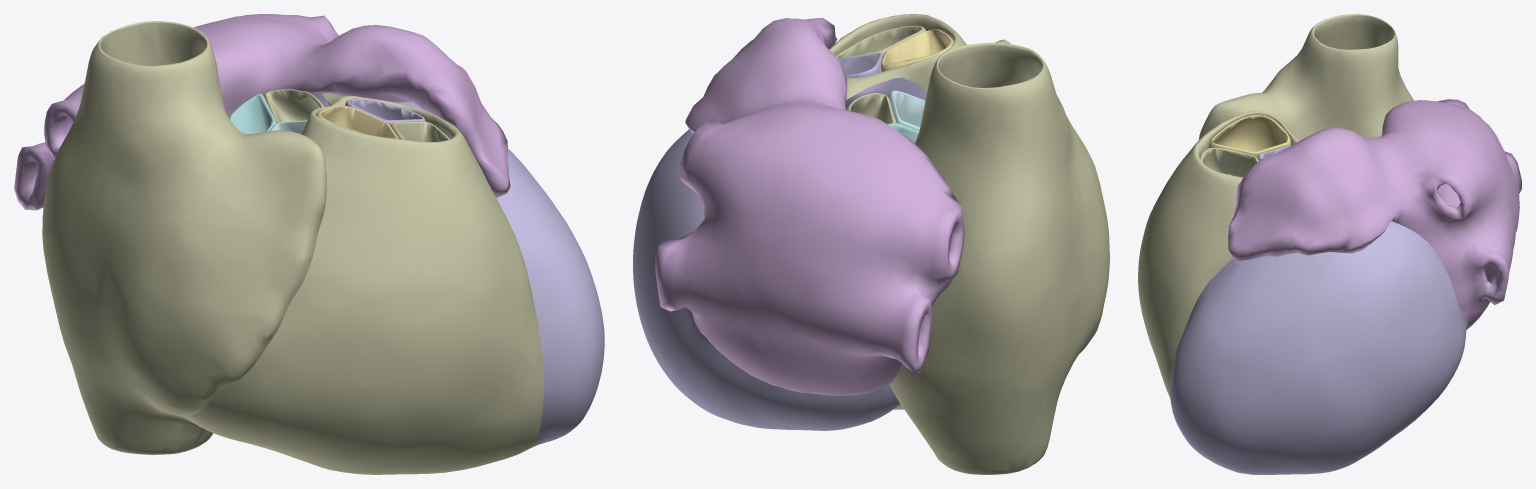
Rendered from heart.glb.
The picture shows the model from 3 angles, left to right: view 1: azimuth 30°, elevation 25°; view 2: azimuth 150°, elevation 25°; view 3: azimuth 270°, elevation 25°; orthographic projection. The views are drawn at different scales.
Parts seen in each view (by area): view 1: Right atrium.001, Right ventricle.001, Left atrium.001, Left ventricle.001, Left coronary leaflet.001, Right semilunar leaflet of pulmonary valve.001, Non-coronary leaflet.001, Left semilunar leaflet of pulmonary valve.001, Anterior semilunar leaflet of pulmonary valve.001; view 2: Left atrium.001, Right atrium.001, Left ventricle.001, Right ventricle.001, Right semilunar leaflet of pulmonary valve.001, Anterior semilunar leaflet of pulmonary valve.001, Right coronary leaflet.001, Left coronary leaflet.001, Left semilunar leaflet of pulmonary valve.001; view 3: Left ventricle.001, Left atrium.001, Right atrium.001, Right ventricle.001, Right semilunar leaflet of pulmonary valve.001, Anterior semilunar leaflet of pulmonary valve.001.
Part boxes in pixels (box(x1,y1,x2,y2)): Right atrium.001: box(42, 21, 326, 454); Right ventricle.001: box(184, 93, 544, 474); Left atrium.001: box(14, 14, 510, 210); Left ventricle.001: box(311, 94, 604, 445); Left coronary leaflet.001: box(264, 89, 324, 122); Right semilunar leaflet of pulmonary valve.001: box(316, 105, 398, 138); Non-coronary leaflet.001: box(229, 93, 276, 133); Left semilunar leaflet of pulmonary valve.001: box(345, 98, 425, 125); Anterior semilunar leaflet of pulmonary valve.001: box(390, 121, 449, 141); Left atrium.001: box(655, 18, 964, 395); Right atrium.001: box(889, 39, 1109, 474); Left ventricle.001: box(633, 77, 927, 430); Right ventricle.001: box(829, 14, 966, 409); Right semilunar leaflet of pulmonary valve.001: box(881, 29, 954, 71); Anterior semilunar leaflet of pulmonary valve.001: box(835, 25, 926, 58); Right coronary leaflet.001: box(888, 90, 925, 130); Left coronary leaflet.001: box(846, 93, 896, 124); Left semilunar leaflet of pulmonary valve.001: box(837, 52, 883, 77); Left ventricle.001: box(1170, 221, 1467, 474); Left atrium.001: box(1228, 99, 1521, 329); Right atrium.001: box(1199, 14, 1413, 221); Right ventricle.001: box(1138, 111, 1299, 397); Right semilunar leaflet of pulmonary valve.001: box(1209, 115, 1291, 159); Anterior semilunar leaflet of pulmonary valve.001: box(1200, 147, 1258, 177).
Size of the model in its own units: 0.1191 by 0.108 by 0.1129.
